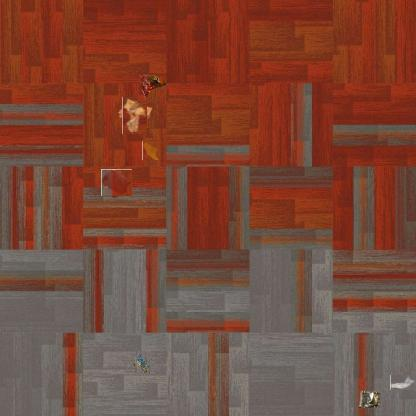dirty: (119, 100, 151, 131), (138, 73, 168, 101), (390, 374, 415, 390), (133, 352, 153, 372), (360, 390, 380, 408)
liquid: (102, 168, 131, 197), (142, 140, 159, 160)
